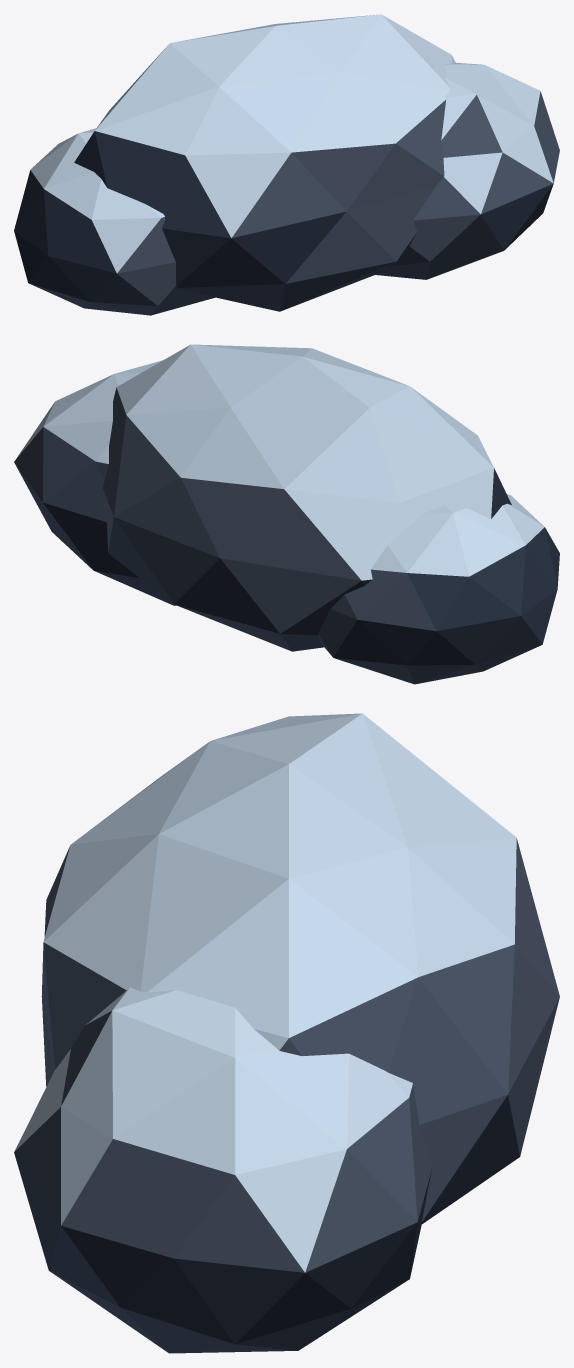
File: rock_formation.glb
3 renders of one model, top to bottom at view 1: azimuth 30°, elevation 25°; view 2: azimuth 150°, elevation 25°; view 3: azimuth 270°, elevation 25°, orthographic. The views are drawn at different scales.
Parts seen in each view (by area): view 1: rock_formation; view 2: rock_formation; view 3: rock_formation.
Part boxes in pixels (x1=…): rock_formation: x1=14, y1=14, x2=559, y2=315; rock_formation: x1=14, y1=344, x2=559, y2=684; rock_formation: x1=14, y1=713, x2=559, y2=1353.
Bounding box in the file's own units: 3.4 × 1.66 × 1.83.
